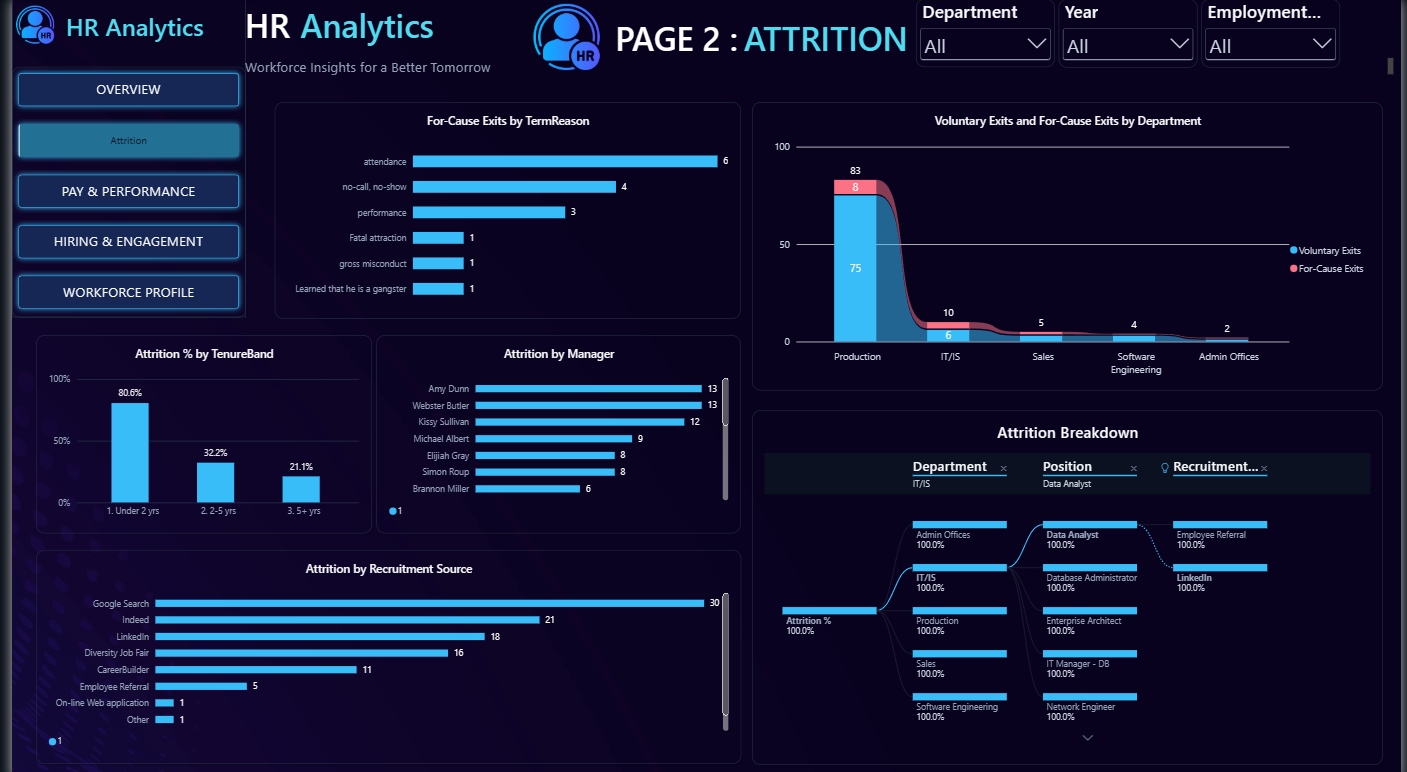

The dashboard page shown, as its layout file describes it:
{"tool":"powerbi","page":{"name":"Attrition","canvas":[1920,1080],"ordinal":1},"visuals":[{"type":"shape","box":[0,0,323.3,440],"z":0},{"type":"textbox","title":"HR ","box":[322,0,1597,105],"z":0,"group":"g1"},{"type":"image","box":[702,0,127.5,105],"z":1000,"group":"g1"},{"type":"textbox","title":"PAGE 2 :","box":[834.3,17.8,187.6,73.5],"z":1000},{"type":"image","box":[2.5,3.5,60,62.5],"z":2000},{"type":"group","id":"g1","title":"Group 6","box":[322,0,1597.6,104],"z":3000},{"type":"textbox","title":"HR Analytics","box":[62.5,10,212.5,51.2],"z":4000},{"type":"textbox","title":"Analytics","box":[397.5,0,200,70],"z":5000},{"type":"slicer","fields":{"Values":["HRDataset_v14.Department"]},"box":[1249.8,0,192.2,93.9],"z":6000},{"type":"slicer","fields":{"Values":["DimDate.Year"]},"box":[1446.5,0,192.2,95.2],"z":7000},{"type":"slicer","fields":{"Values":["HRDataset_v14.EmploymentStatus"]},"box":[1643.3,0,192.2,95.2],"z":9000},{"type":"pageNavigator","box":[0,93.3,323.3,346.7],"z":10000},{"type":"textbox","title":"ATTRITION","box":[1011.8,17.8,243.4,71],"z":11000},{"type":"clusteredBarChart","fields":{"Category":["HRDataset_v14.TermReason"],"Y":["measure.For-Cause Exits"]},"box":[362.6,142,644.1,299.2],"z":13000},{"type":"columnChart","fields":{"Category":["HRDataset_v14.Department"],"Y":["measure.Voluntary Exits","measure.For-Cause Exits"]},"box":[1022.8,142.4,871.6,398.6],"z":14000},{"type":"clusteredColumnChart","fields":{"Category":["HRDataset_v14.TenureBand"],"Y":["measure.Attrition %"]},"box":[32.9,464.3,464.3,273.8],"z":15000},{"type":"clusteredBarChart","title":"Attrition by Manager","fields":{"Category":["HRDataset_v14.ManagerName"],"Series":["HRDataset_v14.Termd"],"Y":["CountNonNull(HRDataset_v14.EmpID)"]},"box":[503.7,464.3,503.7,273.8],"z":16000},{"type":"clusteredBarChart","title":"Attrition by Recruitment Source","fields":{"Category":["HRDataset_v14.RecruitmentSource"],"Series":["HRDataset_v14.Termd"],"Y":["CountNonNull(HRDataset_v14.EmpID)"]},"box":[32.9,762.1,974.6,295.7],"z":17000},{"type":"decompositionTreeVisual","title":"Attrition Breakdown","fields":{"Analyze":["measure.Attrition %"],"ExplainBy":["HRDataset_v14.Department","HRDataset_v14.Position","HRDataset_v14.RecruitmentSource"]},"box":[1022.8,567.2,871.6,490.6],"z":18000}]}

Visuals, with their boxes on the page's 1920x1080 design canvas (x1, y1, x2, y2). These are canvas units, not pixel positions in the 1407x772 screenshot, which may show the page scaled, cropped or inside an application window:
shape: (left=0, top=0, right=323, bottom=440)
"HR " textbox: (left=322, top=0, right=1919, bottom=105)
image: (left=702, top=0, right=830, bottom=105)
"PAGE 2 :" textbox: (left=834, top=18, right=1022, bottom=91)
image: (left=2, top=4, right=62, bottom=66)
"Group 6" group: (left=322, top=0, right=1920, bottom=104)
"HR Analytics" textbox: (left=62, top=10, right=275, bottom=61)
"Analytics" textbox: (left=398, top=0, right=598, bottom=70)
slicer - HRDataset_v14.Department: (left=1250, top=0, right=1442, bottom=94)
slicer - DimDate.Year: (left=1446, top=0, right=1639, bottom=95)
slicer - HRDataset_v14.EmploymentStatus: (left=1643, top=0, right=1836, bottom=95)
pageNavigator: (left=0, top=93, right=323, bottom=440)
"ATTRITION" textbox: (left=1012, top=18, right=1255, bottom=89)
clusteredBarChart - HRDataset_v14.TermReason x measure.For-Cause Exits: (left=363, top=142, right=1007, bottom=441)
columnChart - HRDataset_v14.Department x measure.Voluntary Exits: (left=1023, top=142, right=1894, bottom=541)
clusteredColumnChart - HRDataset_v14.TenureBand x measure.Attrition %: (left=33, top=464, right=497, bottom=738)
"Attrition by Manager" clusteredBarChart: (left=504, top=464, right=1007, bottom=738)
"Attrition by Recruitment Source" clusteredBarChart: (left=33, top=762, right=1008, bottom=1058)
"Attrition Breakdown" decompositionTreeVisual: (left=1023, top=567, right=1894, bottom=1058)
